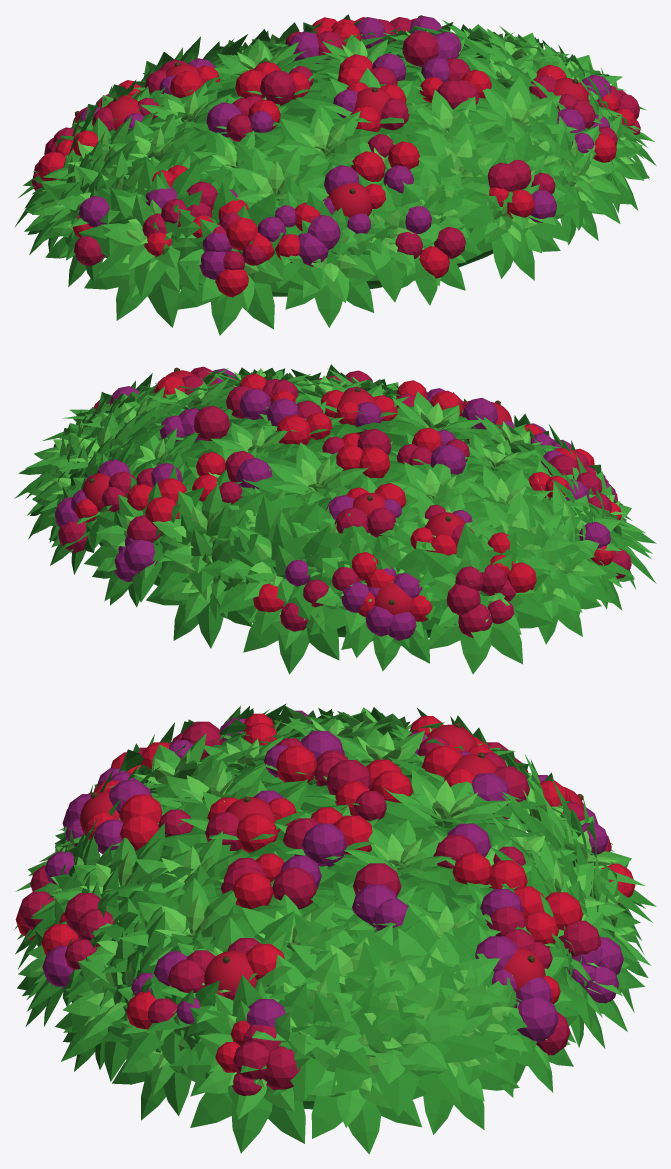
Rendered from arbusto.fbx.
The picture shows the model from 3 angles, top to bottom: view 1: azimuth 30°, elevation 25°; view 2: azimuth 150°, elevation 25°; view 3: azimuth 270°, elevation 25°; orthographic projection. The views are drawn at different scales.
Parts seen in each view (by area): view 1: folha_escura, folha_media, fruta_vermelha, fruta_carmim, fruta_magenta, folha_clara, framboesa, Sphere; view 2: folha_escura, folha_media, fruta_carmim, fruta_vermelha, fruta_magenta, folha_clara, framboesa, Sphere; view 3: folha_escura, folha_media, fruta_carmim, fruta_vermelha, fruta_magenta, folha_clara, framboesa, Sphere.
Boxes of the visible parts, x1=… form: folha_escura: x1=14, y1=20, x2=656, y2=335; folha_media: x1=18, y1=14, x2=654, y2=310; fruta_vermelha: x1=37, y1=17, x2=635, y2=297; fruta_carmim: x1=32, y1=17, x2=640, y2=270; fruta_magenta: x1=70, y1=16, x2=611, y2=279; folha_clara: x1=33, y1=28, x2=638, y2=281; framboesa: x1=72, y1=18, x2=588, y2=217; Sphere: x1=194, y1=65, x2=493, y2=296; folha_escura: x1=14, y1=368, x2=656, y2=674; folha_media: x1=25, y1=364, x2=652, y2=649; fruta_carmim: x1=58, y1=366, x2=631, y2=637; fruta_vermelha: x1=75, y1=373, x2=621, y2=621; fruta_magenta: x1=54, y1=368, x2=616, y2=640; folha_clara: x1=37, y1=368, x2=633, y2=621; framboesa: x1=82, y1=370, x2=512, y2=615; Sphere: x1=154, y1=419, x2=483, y2=637; folha_escura: x1=14, y1=703, x2=656, y2=1154; folha_media: x1=15, y1=706, x2=650, y2=1127; fruta_carmim: x1=19, y1=721, x2=629, y2=1095; fruta_vermelha: x1=15, y1=713, x2=635, y2=1072; fruta_magenta: x1=42, y1=710, x2=623, y2=1042; folha_clara: x1=34, y1=709, x2=634, y2=1091; framboesa: x1=79, y1=725, x2=583, y2=997; Sphere: x1=159, y1=777, x2=497, y2=1109.
Size of the model in its own units: 4.88 by 1.49 by 3.65.
